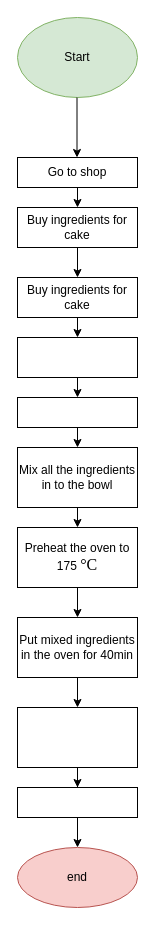
This 155x925 diagram has some shape labels left out. Here are the shapes that lost their labels. From the top down, the centre of each, then its label:
(77,357): Go home
(77,412): Get bowl
(77,737): Get your cake out of oven
(77,802): Eat your cake
